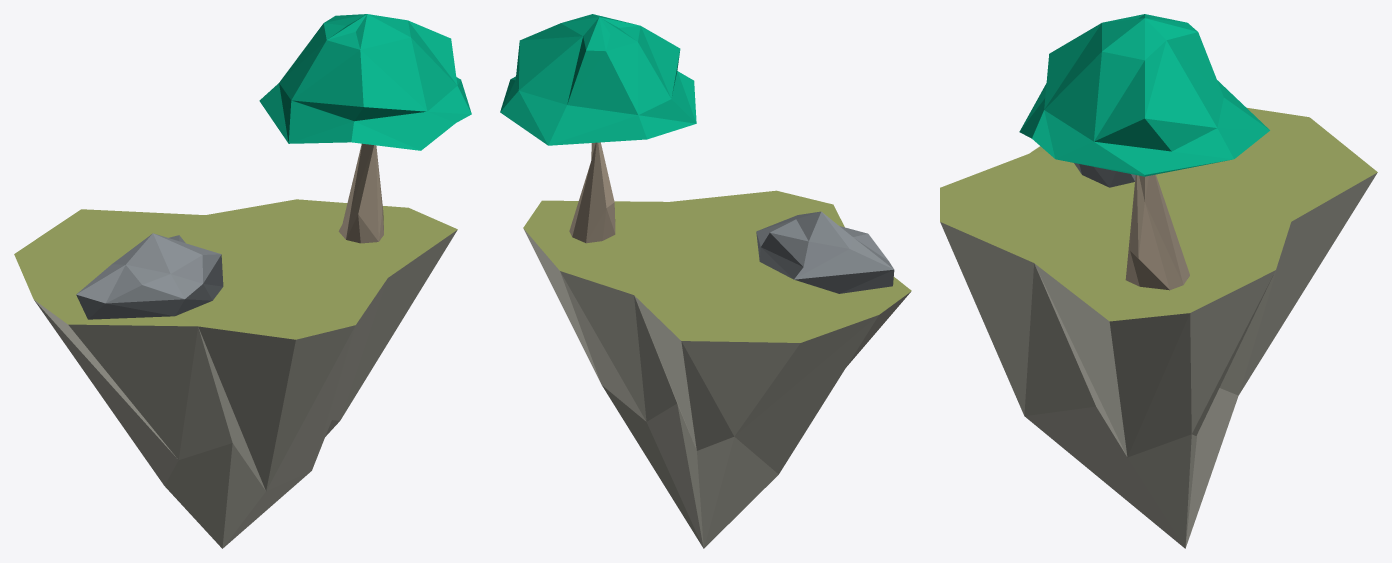
File: islandWithAssets02.fbx
3 views of the same model, side by side, from view 1: azimuth 30°, elevation 25°; view 2: azimuth 150°, elevation 25°; view 3: azimuth 270°, elevation 25° (orthographic). The views are drawn at different scales.
Parts seen in each view (by area): view 1: pCube2; view 2: pCube2; view 3: pCube2.
Part boxes in pixels (x1=…): pCube2: x1=14, y1=14, x2=471, y2=548; pCube2: x1=500, y1=14, x2=911, y2=548; pCube2: x1=940, y1=14, x2=1377, y2=548.
Size of the model in its own units: 0.1201 by 0.1452 by 0.0955.
